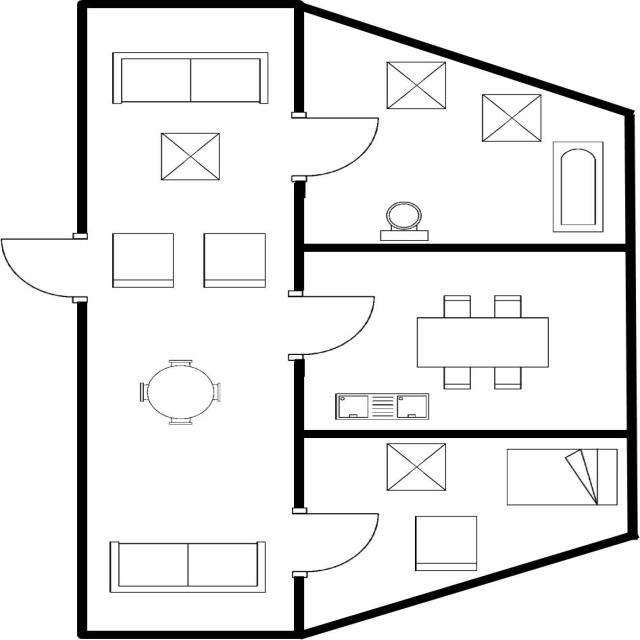bed: (502, 443, 622, 510)
coffee_table: (378, 438, 456, 494), (150, 128, 226, 184), (380, 56, 453, 112), (475, 90, 545, 148)
dining_table: (410, 292, 556, 395)
large_sink: (371, 198, 436, 244)
large_sofa: (103, 536, 271, 598), (106, 48, 272, 110)
round_table: (132, 351, 228, 431)
small_sofa: (410, 510, 482, 578), (105, 228, 180, 292), (196, 230, 270, 290)
tub: (544, 137, 608, 240)
twin_sink: (326, 388, 432, 424)
